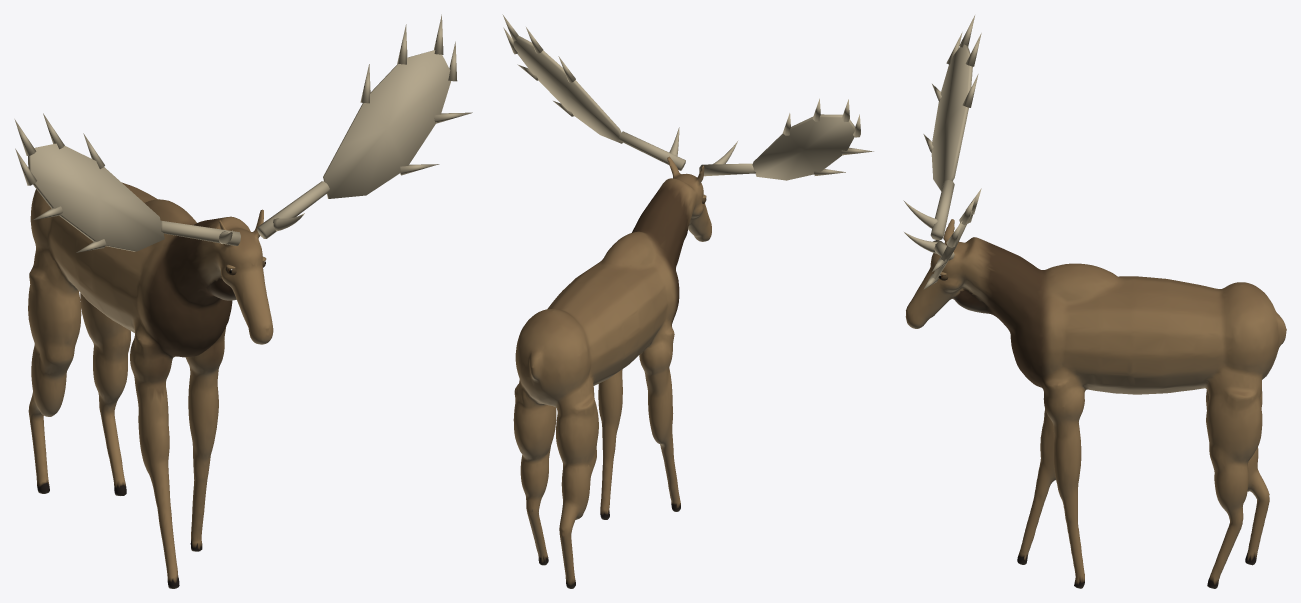
The model's file is MegalocerosGiganteus.fbx.
3 views of the same model, side by side, from view 1: azimuth 30°, elevation 25°; view 2: azimuth 150°, elevation 25°; view 3: azimuth 270°, elevation 25° (orthographic). The views are drawn at different scales.
Parts seen in each view (by area): view 1: MegalocerosGiganteus; view 2: MegalocerosGiganteus; view 3: MegalocerosGiganteus.
Boxes of the visible parts, x1,y1,x2,y2 form: MegalocerosGiganteus: (14,14,472,588); MegalocerosGiganteus: (502,14,873,588); MegalocerosGiganteus: (903,15,1286,588).
Size of the model in its own units: 1.97 by 2.29 by 1.69.
